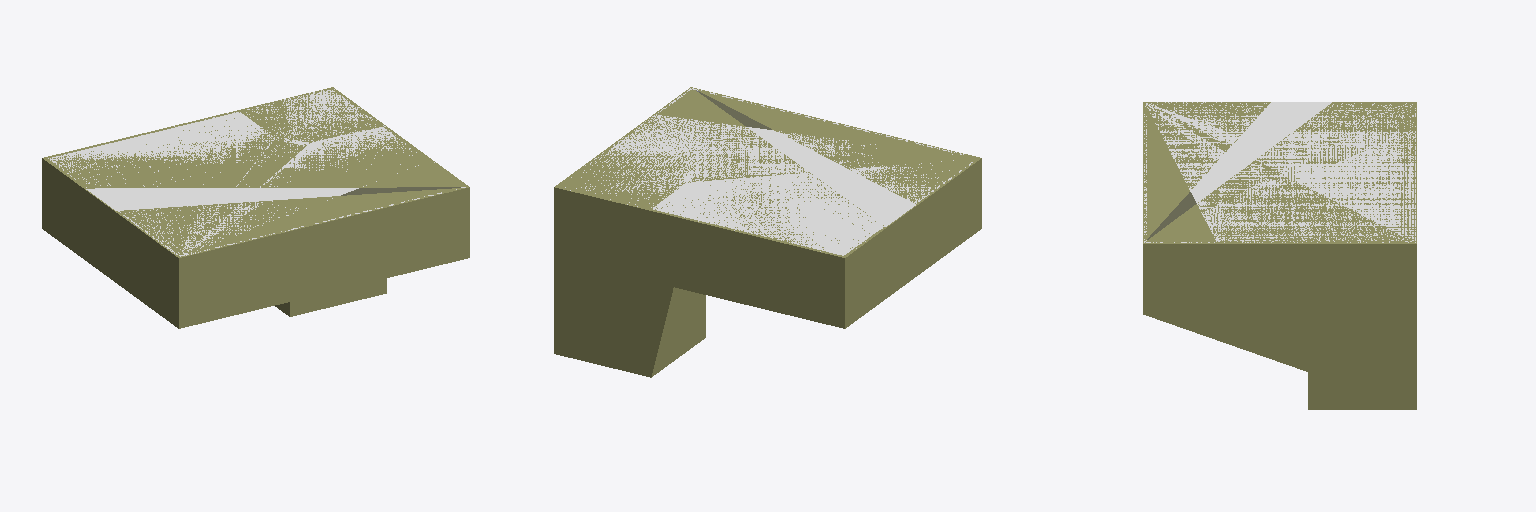
The model's file is PlayerHouse2F.obj.
The picture shows the model from 3 angles: view 1: azimuth 30°, elevation 25°; view 2: azimuth 150°, elevation 25°; view 3: azimuth 270°, elevation 25°; orthographic projection.
Visible parts, largest first — view 1: LittlerootZimmer2F_LittlerootZimmer2F.024; view 2: LittlerootZimmer2F_LittlerootZimmer2F.024; view 3: LittlerootZimmer2F_LittlerootZimmer2F.024.
Part boxes in pixels (x1,y1,x2,y2): LittlerootZimmer2F_LittlerootZimmer2F.024: (42,87,469,328); LittlerootZimmer2F_LittlerootZimmer2F.024: (554,87,981,377); LittlerootZimmer2F_LittlerootZimmer2F.024: (1143,102,1416,409).
Size of the model in its own units: 15.88 by 8.69 by 12.94.